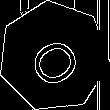O_NE: (20, 24, 87, 88)
